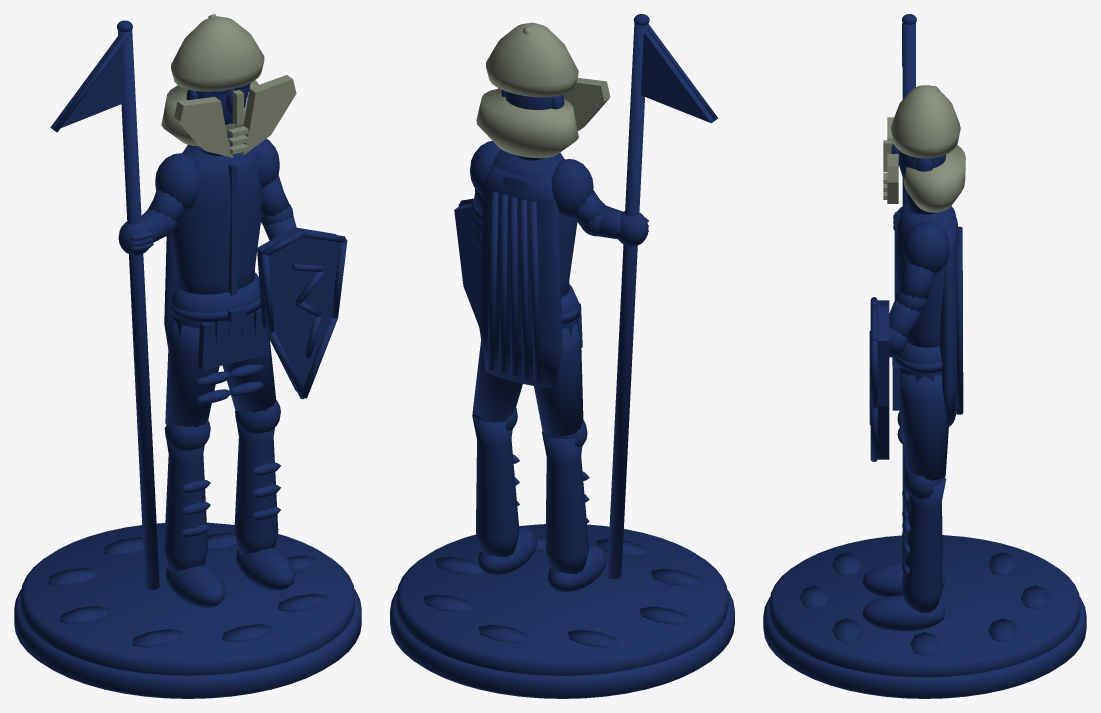
File: knight-blue-level-1-helmet.fbx
3 views of the same model, side by side, from view 1: azimuth 30°, elevation 25°; view 2: azimuth 150°, elevation 25°; view 3: azimuth 270°, elevation 25° (orthographic). The views are drawn at different scales.
Parts seen in each view (by area): view 1: Knight_Level_1_Helmet_Sculpt; view 2: Knight_Level_1_Helmet_Sculpt; view 3: Knight_Level_1_Helmet_Sculpt.
Part boxes in pixels (x1=…): Knight_Level_1_Helmet_Sculpt: x1=14, y1=14, x2=361, y2=698; Knight_Level_1_Helmet_Sculpt: x1=390, y1=14, x2=734, y2=698; Knight_Level_1_Helmet_Sculpt: x1=763, y1=14, x2=1086, y2=698.
Size of the model in its own units: 0.012 by 0.024 by 0.012.
